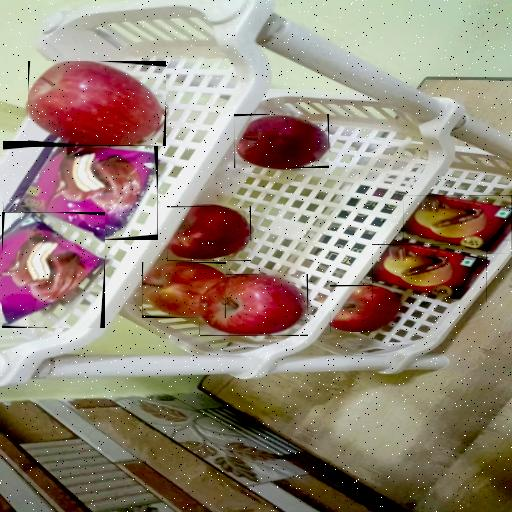Apple: (28, 61, 166, 146), (199, 274, 308, 336), (234, 114, 329, 168), (142, 262, 226, 318), (167, 206, 251, 261), (330, 285, 402, 332)
Choco Fills: (372, 244, 487, 302), (403, 195, 512, 254)
Choco Pie: (3, 141, 158, 240), (2, 212, 105, 328)
